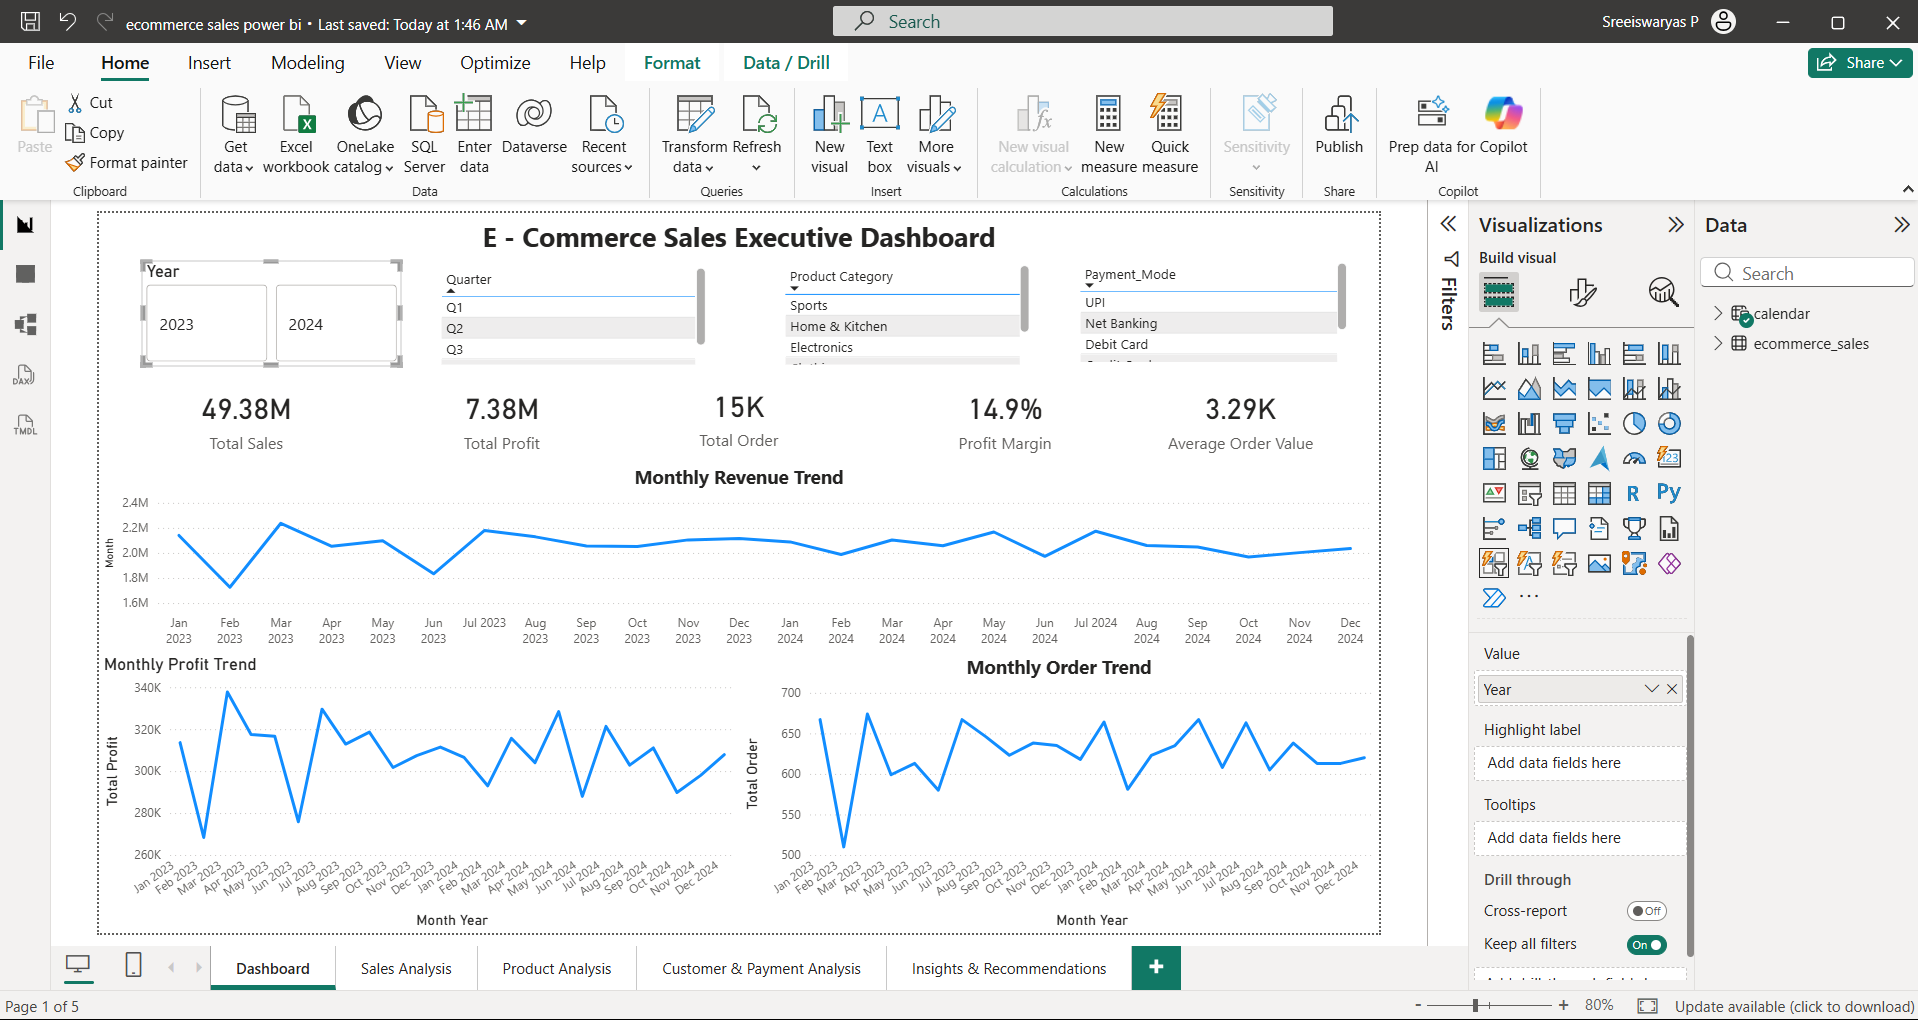

The page's visual inventory and layout, read from the dashboard file:
{"tool":"powerbi","page":{"name":"Dashboard","canvas":[1280,720],"ordinal":0},"visuals":[{"type":"advancedSlicerVisual","fields":{"Values":["calendar.year"]},"box":[42.5,47.5,260,106.2],"z":0},{"type":"textbox","box":[0,0,1280,46.2],"z":1000},{"type":"tableEx","fields":{"Values":["calendar.Quarter"]},"box":[336.2,50,275,106.2],"z":2000},{"type":"tableEx","fields":{"Values":["ecommerce_sales.Product_Category"]},"box":[680,47.5,255,108.8],"z":3000},{"type":"tableEx","fields":{"Values":["ecommerce_sales.Payment_Mode"]},"box":[975,45,277.5,108.8],"z":4000},{"type":"card","fields":{"Values":["ecommerce_sales.Total Sales"]},"box":[42.5,156.2,210,97.5],"z":5000},{"type":"card","fields":{"Values":["ecommerce_sales.Average Order Value"]},"box":[1041.2,156.2,201.2,97.5],"z":6000},{"type":"card","fields":{"Values":["ecommerce_sales.Total Order"]},"box":[547.5,153.8,185,97.5],"z":7000},{"type":"card","fields":{"Values":["ecommerce_sales.Profit Margin"]},"box":[807.5,156.2,197.5,97.5],"z":8000},{"type":"card","fields":{"Values":["ecommerce_sales.Total Profit"]},"box":[302.5,156.2,201.2,97.5],"z":9000},{"type":"lineChart","title":"Monthly Revenue Trend","fields":{"Y":["ecommerce_sales.Total Sales"],"Category":["calendar.Month Year"]},"box":[0,251.2,1280,190],"z":10000},{"type":"lineChart","title":"Monthly Profit Trend","fields":{"Category":["calendar.Month Year"],"Y":["ecommerce_sales.Total Profit"]},"box":[0,441.2,640,278.8],"z":11000},{"type":"lineChart","title":"Monthly Order Trend","fields":{"Category":["calendar.Month Year"],"Y":["ecommerce_sales.Total Order"]},"box":[640,441.2,640,278.8],"z":12000}]}

Visuals, with their boxes on the page's 1280x720 design canvas (x1, y1, x2, y2). These are canvas units, not pixel positions in the 1918x1020 screenshot, which may show the page scaled, cropped or inside an application window:
advancedSlicerVisual - calendar.year: select_region(42, 48, 302, 154)
textbox: select_region(0, 0, 1280, 46)
tableEx - calendar.Quarter: select_region(336, 50, 611, 156)
tableEx - ecommerce_sales.Product_Category: select_region(680, 48, 935, 156)
tableEx - ecommerce_sales.Payment_Mode: select_region(975, 45, 1252, 154)
card - ecommerce_sales.Total Sales: select_region(42, 156, 252, 254)
card - ecommerce_sales.Average Order Value: select_region(1041, 156, 1242, 254)
card - ecommerce_sales.Total Order: select_region(548, 154, 732, 251)
card - ecommerce_sales.Profit Margin: select_region(808, 156, 1005, 254)
card - ecommerce_sales.Total Profit: select_region(302, 156, 504, 254)
"Monthly Revenue Trend" lineChart: select_region(0, 251, 1280, 441)
"Monthly Profit Trend" lineChart: select_region(0, 441, 640, 720)
"Monthly Order Trend" lineChart: select_region(640, 441, 1280, 720)
